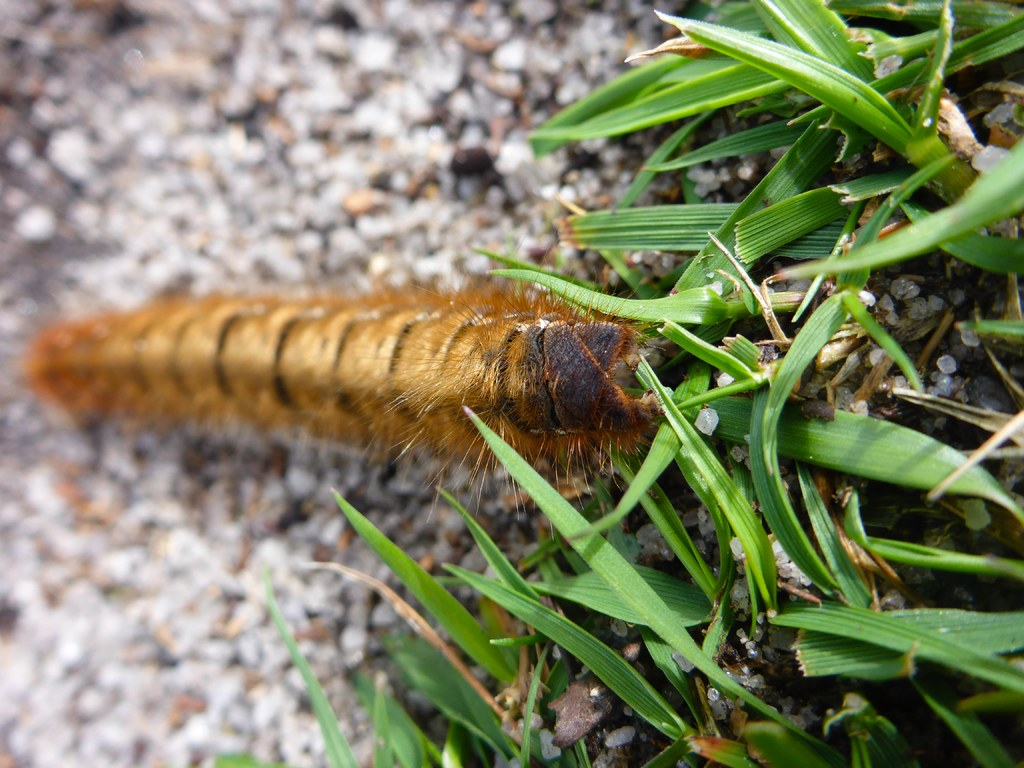insect: (7, 268, 658, 520)
